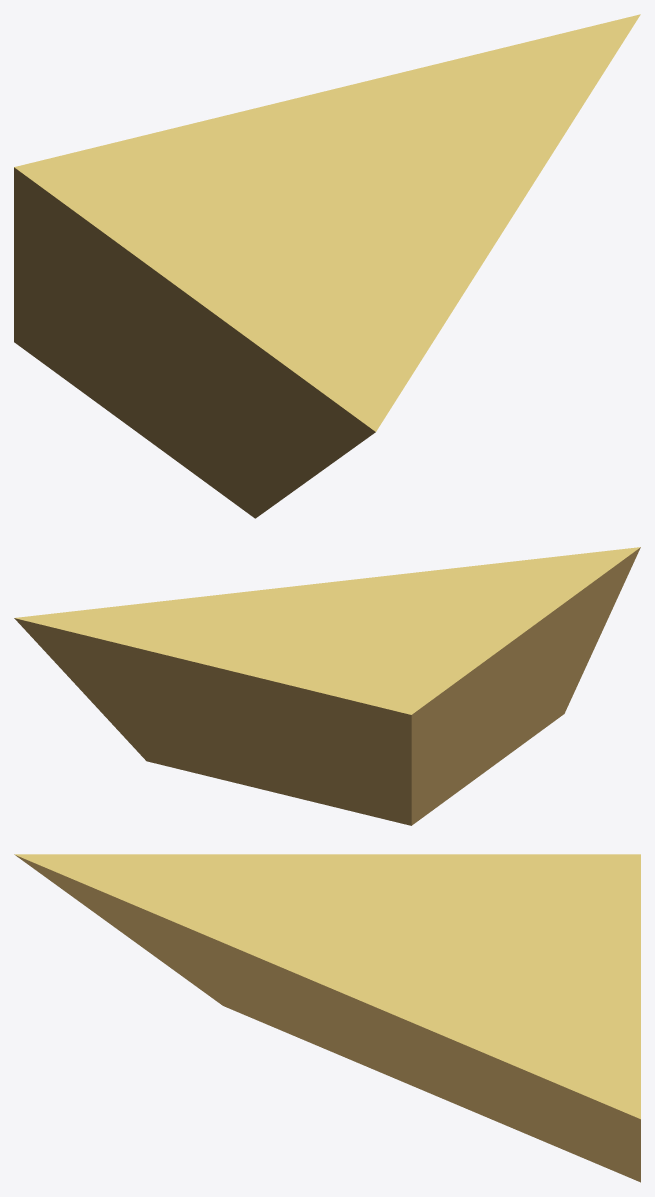
The model's file is Terrain_Modular_Tiles_Sand_Dirt_Cliff_Edge_Corner_Outer_01.fbx.
3 views of the same model, one above another, from view 1: azimuth 30°, elevation 25°; view 2: azimuth 150°, elevation 25°; view 3: azimuth 270°, elevation 25° (orthographic). The views are drawn at different scales.
Parts seen in each view (by area): view 1: Terrain_Modular_Tiles_Sand_Dirt_Cliff_Edge_Corner_Outer_01; view 2: Terrain_Modular_Tiles_Sand_Dirt_Cliff_Edge_Corner_Outer_01; view 3: Terrain_Modular_Tiles_Sand_Dirt_Cliff_Edge_Corner_Outer_01.
Part boxes in pixels (<box>): Terrain_Modular_Tiles_Sand_Dirt_Cliff_Edge_Corner_Outer_01: <box>14,14,640,518</box>; Terrain_Modular_Tiles_Sand_Dirt_Cliff_Edge_Corner_Outer_01: <box>14,547,640,825</box>; Terrain_Modular_Tiles_Sand_Dirt_Cliff_Edge_Corner_Outer_01: <box>14,854,640,1182</box>.
Bounding box in the file's own units: 1125 × 300 × 1125.
